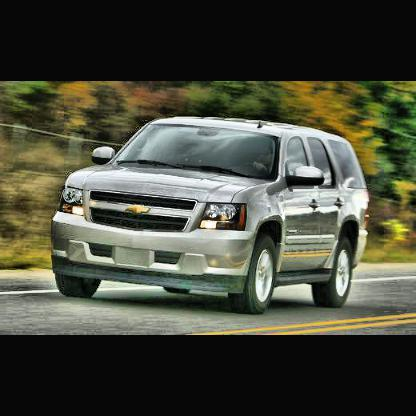Chevrolet Tahoe Hybrid SUV 2012: (50, 115, 372, 317)
